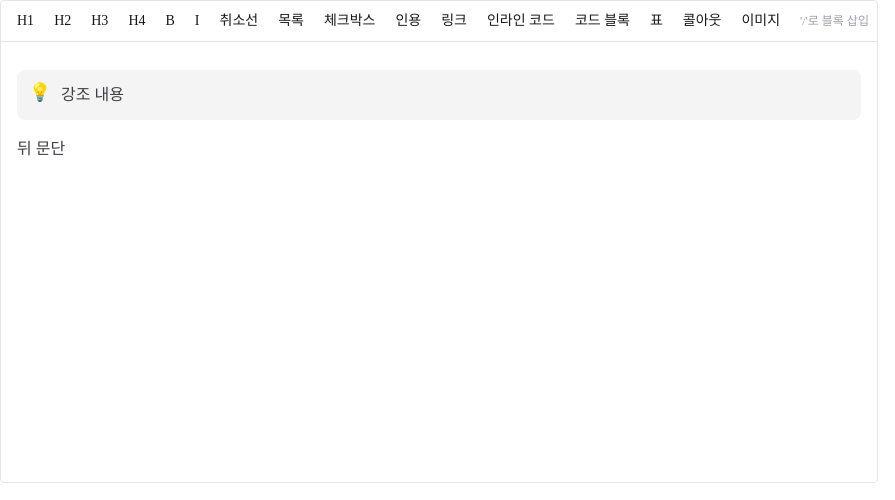
Test: 에디터 안의 콜아웃 아이콘 › 다른 아이콘을 고르면 저장되는 HTML이 바뀌고 팝업이 닫힌다
Expected: the field labelled "💡 강조 내용 뒤 문단" is shown, [17,70,861,157]
Click the button named "콜아웃 아이콘 변경" at (40, 92), box [25,80,55,104]
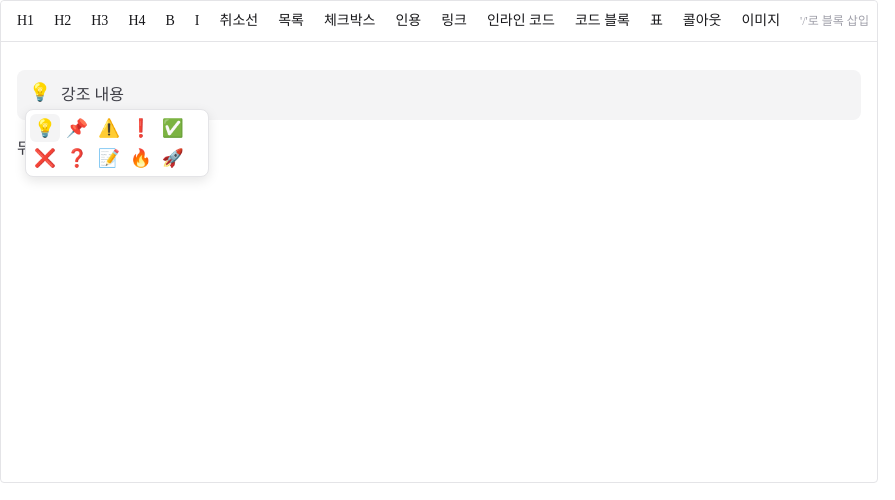
Click the button named "아이콘 🔥" at (141, 158), box [126,144,156,172]
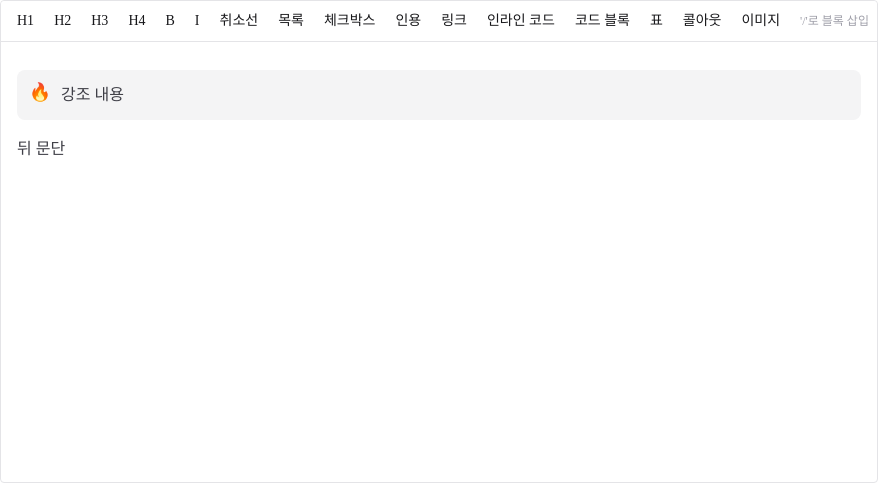
Result: the button named "콜아웃 아이콘 변경" reads "🔥" at [25,80,55,104]
